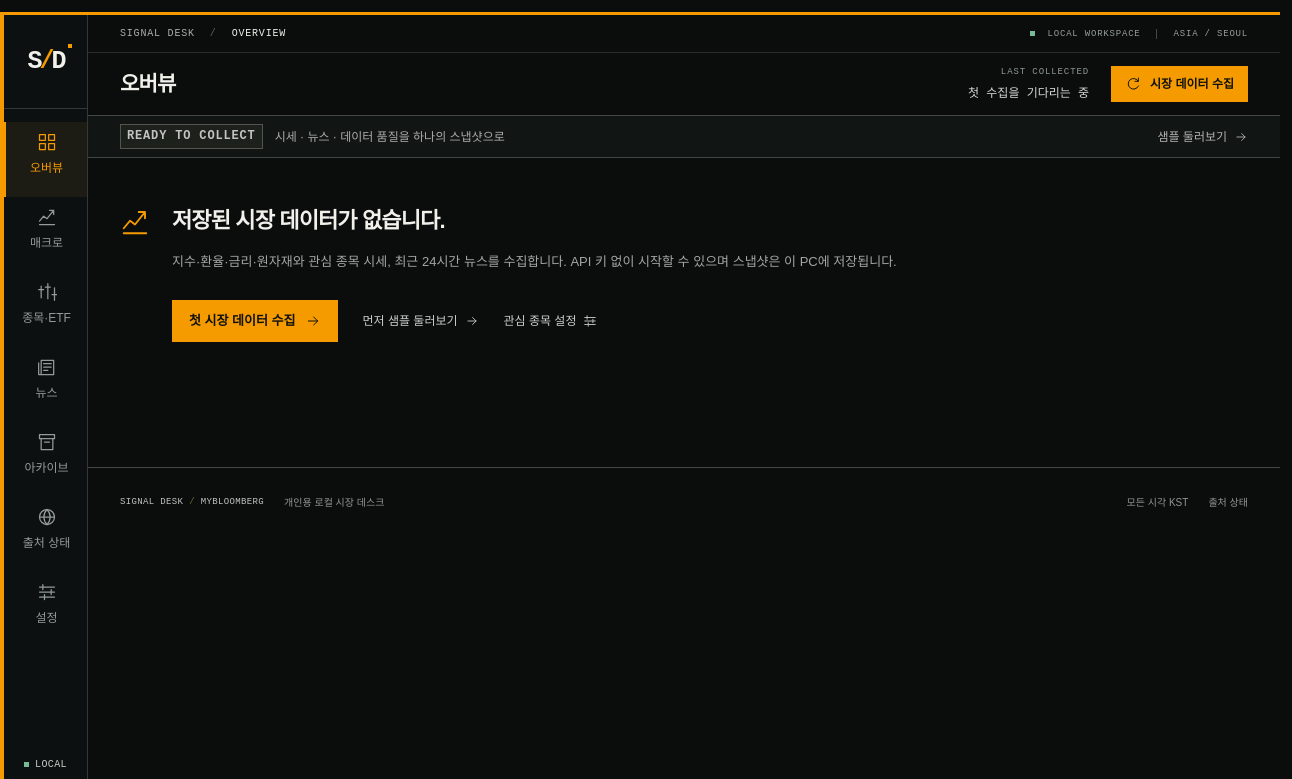
Test: CollectionDesk › starts empty, makes sample collection explicit, and labels every preview as sample
The image size is (1292, 779).
Expected: the button "첫 시장 데이터 수집" is shown, x1=172 y1=300 x2=338 y2=342
Expected: the text "실제 시장 데이터가 아닙니다." is not shown
Click the button "먼저 샘플 둘러보기". click: click(420, 321)
box: x1=362 y1=312 x2=478 y2=330
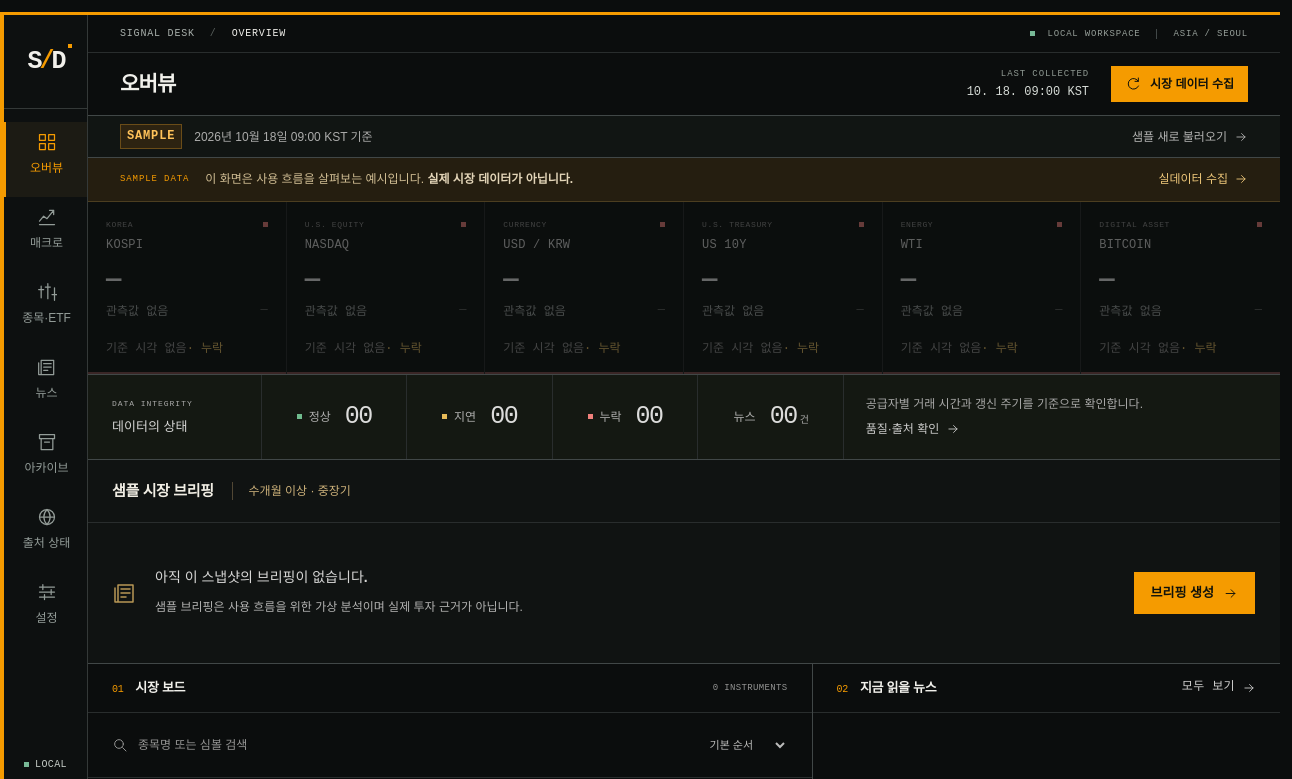
Expected: the text "실제 시장 데이터가 아닙니다." is shown, x1=427 y1=172 x2=573 y2=186
Expected: the text "SAMPLE DATA" is shown, x1=120 y1=174 x2=189 y2=184
